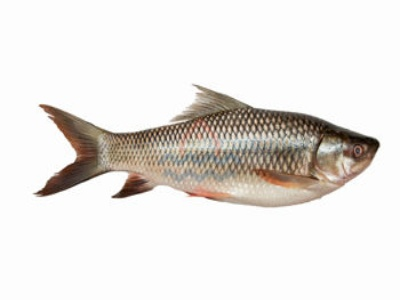rohu: (25, 82, 380, 219)
